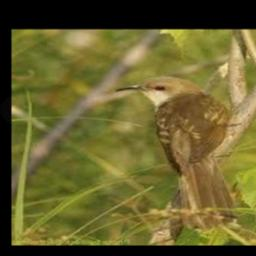Cuckoo: (115, 75, 241, 230)
